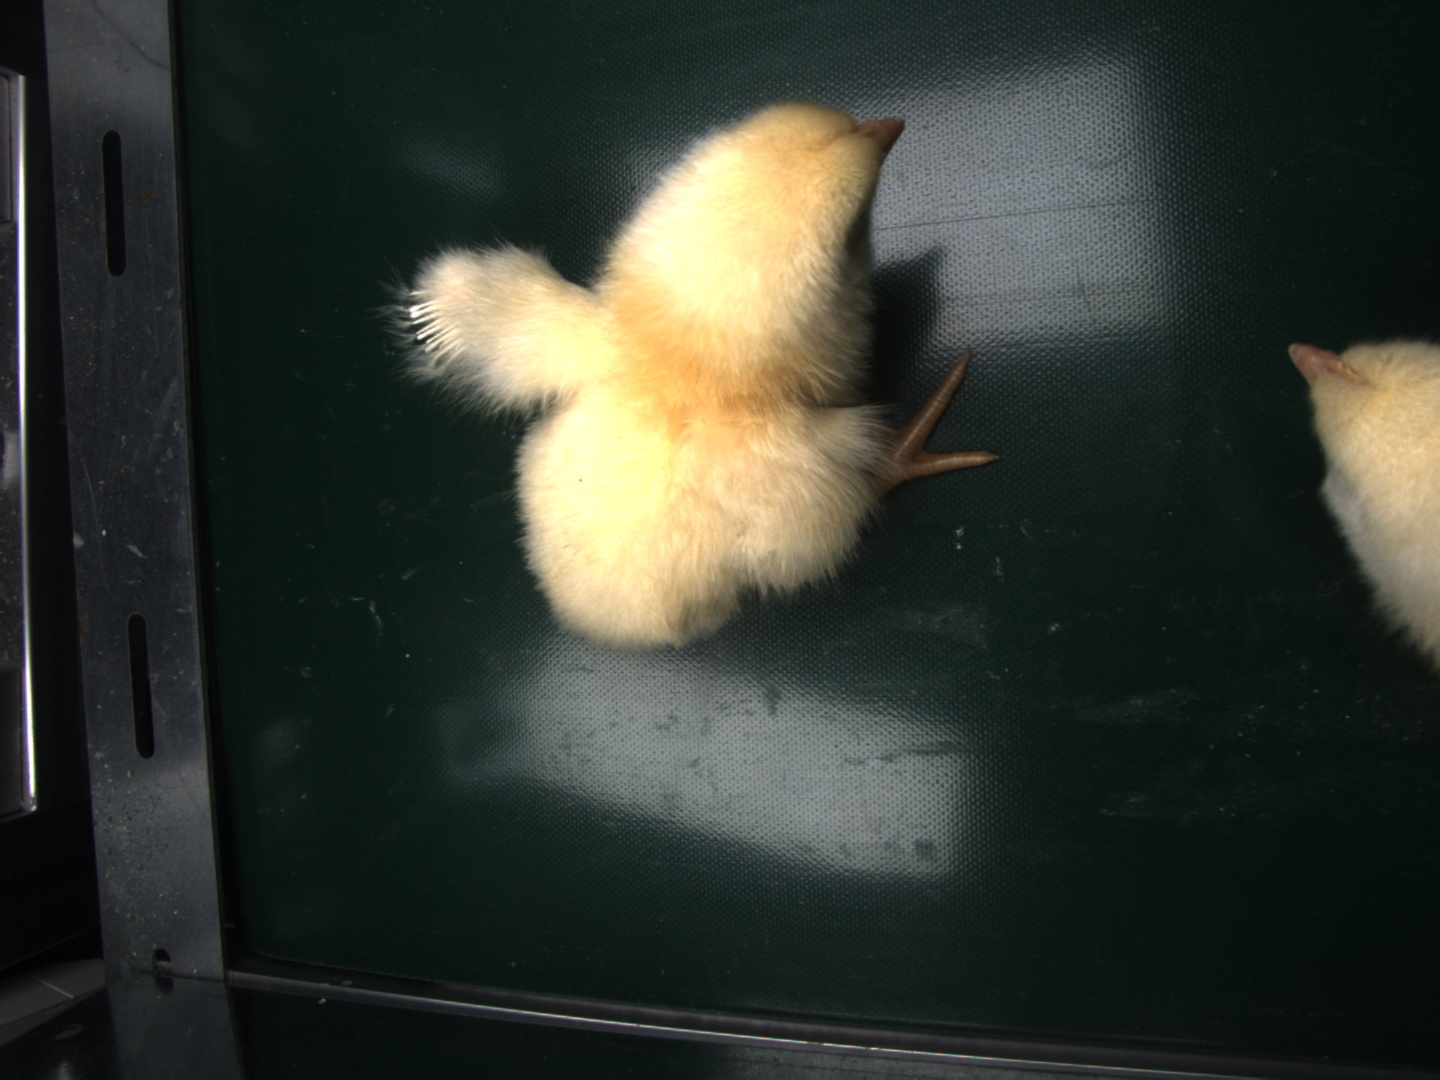male: (407, 293, 463, 362)
